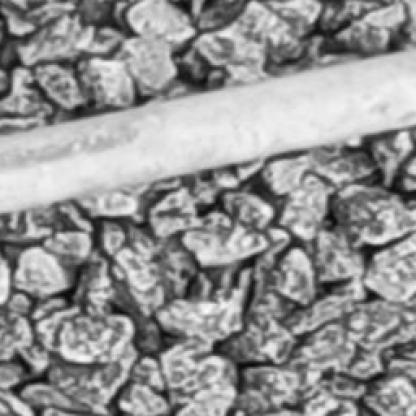PVC: (0, 49, 414, 213)
